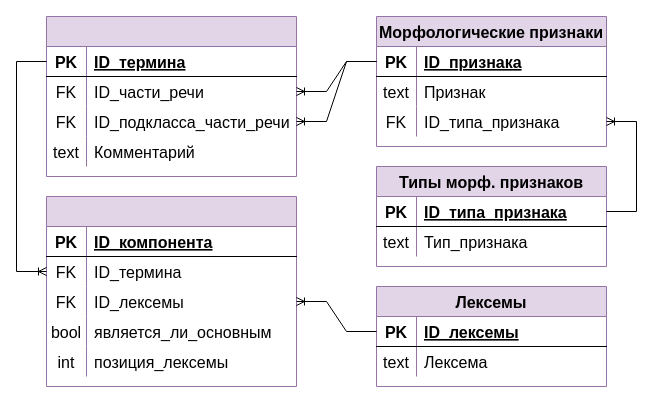
This 653x403 diagram has some shape labels left out. Here are the shapes that lost their labels. From the top down, the box of each, then its label:
(46, 16, 296, 176): Термины
(46, 196, 296, 386): Компоненты терминов
